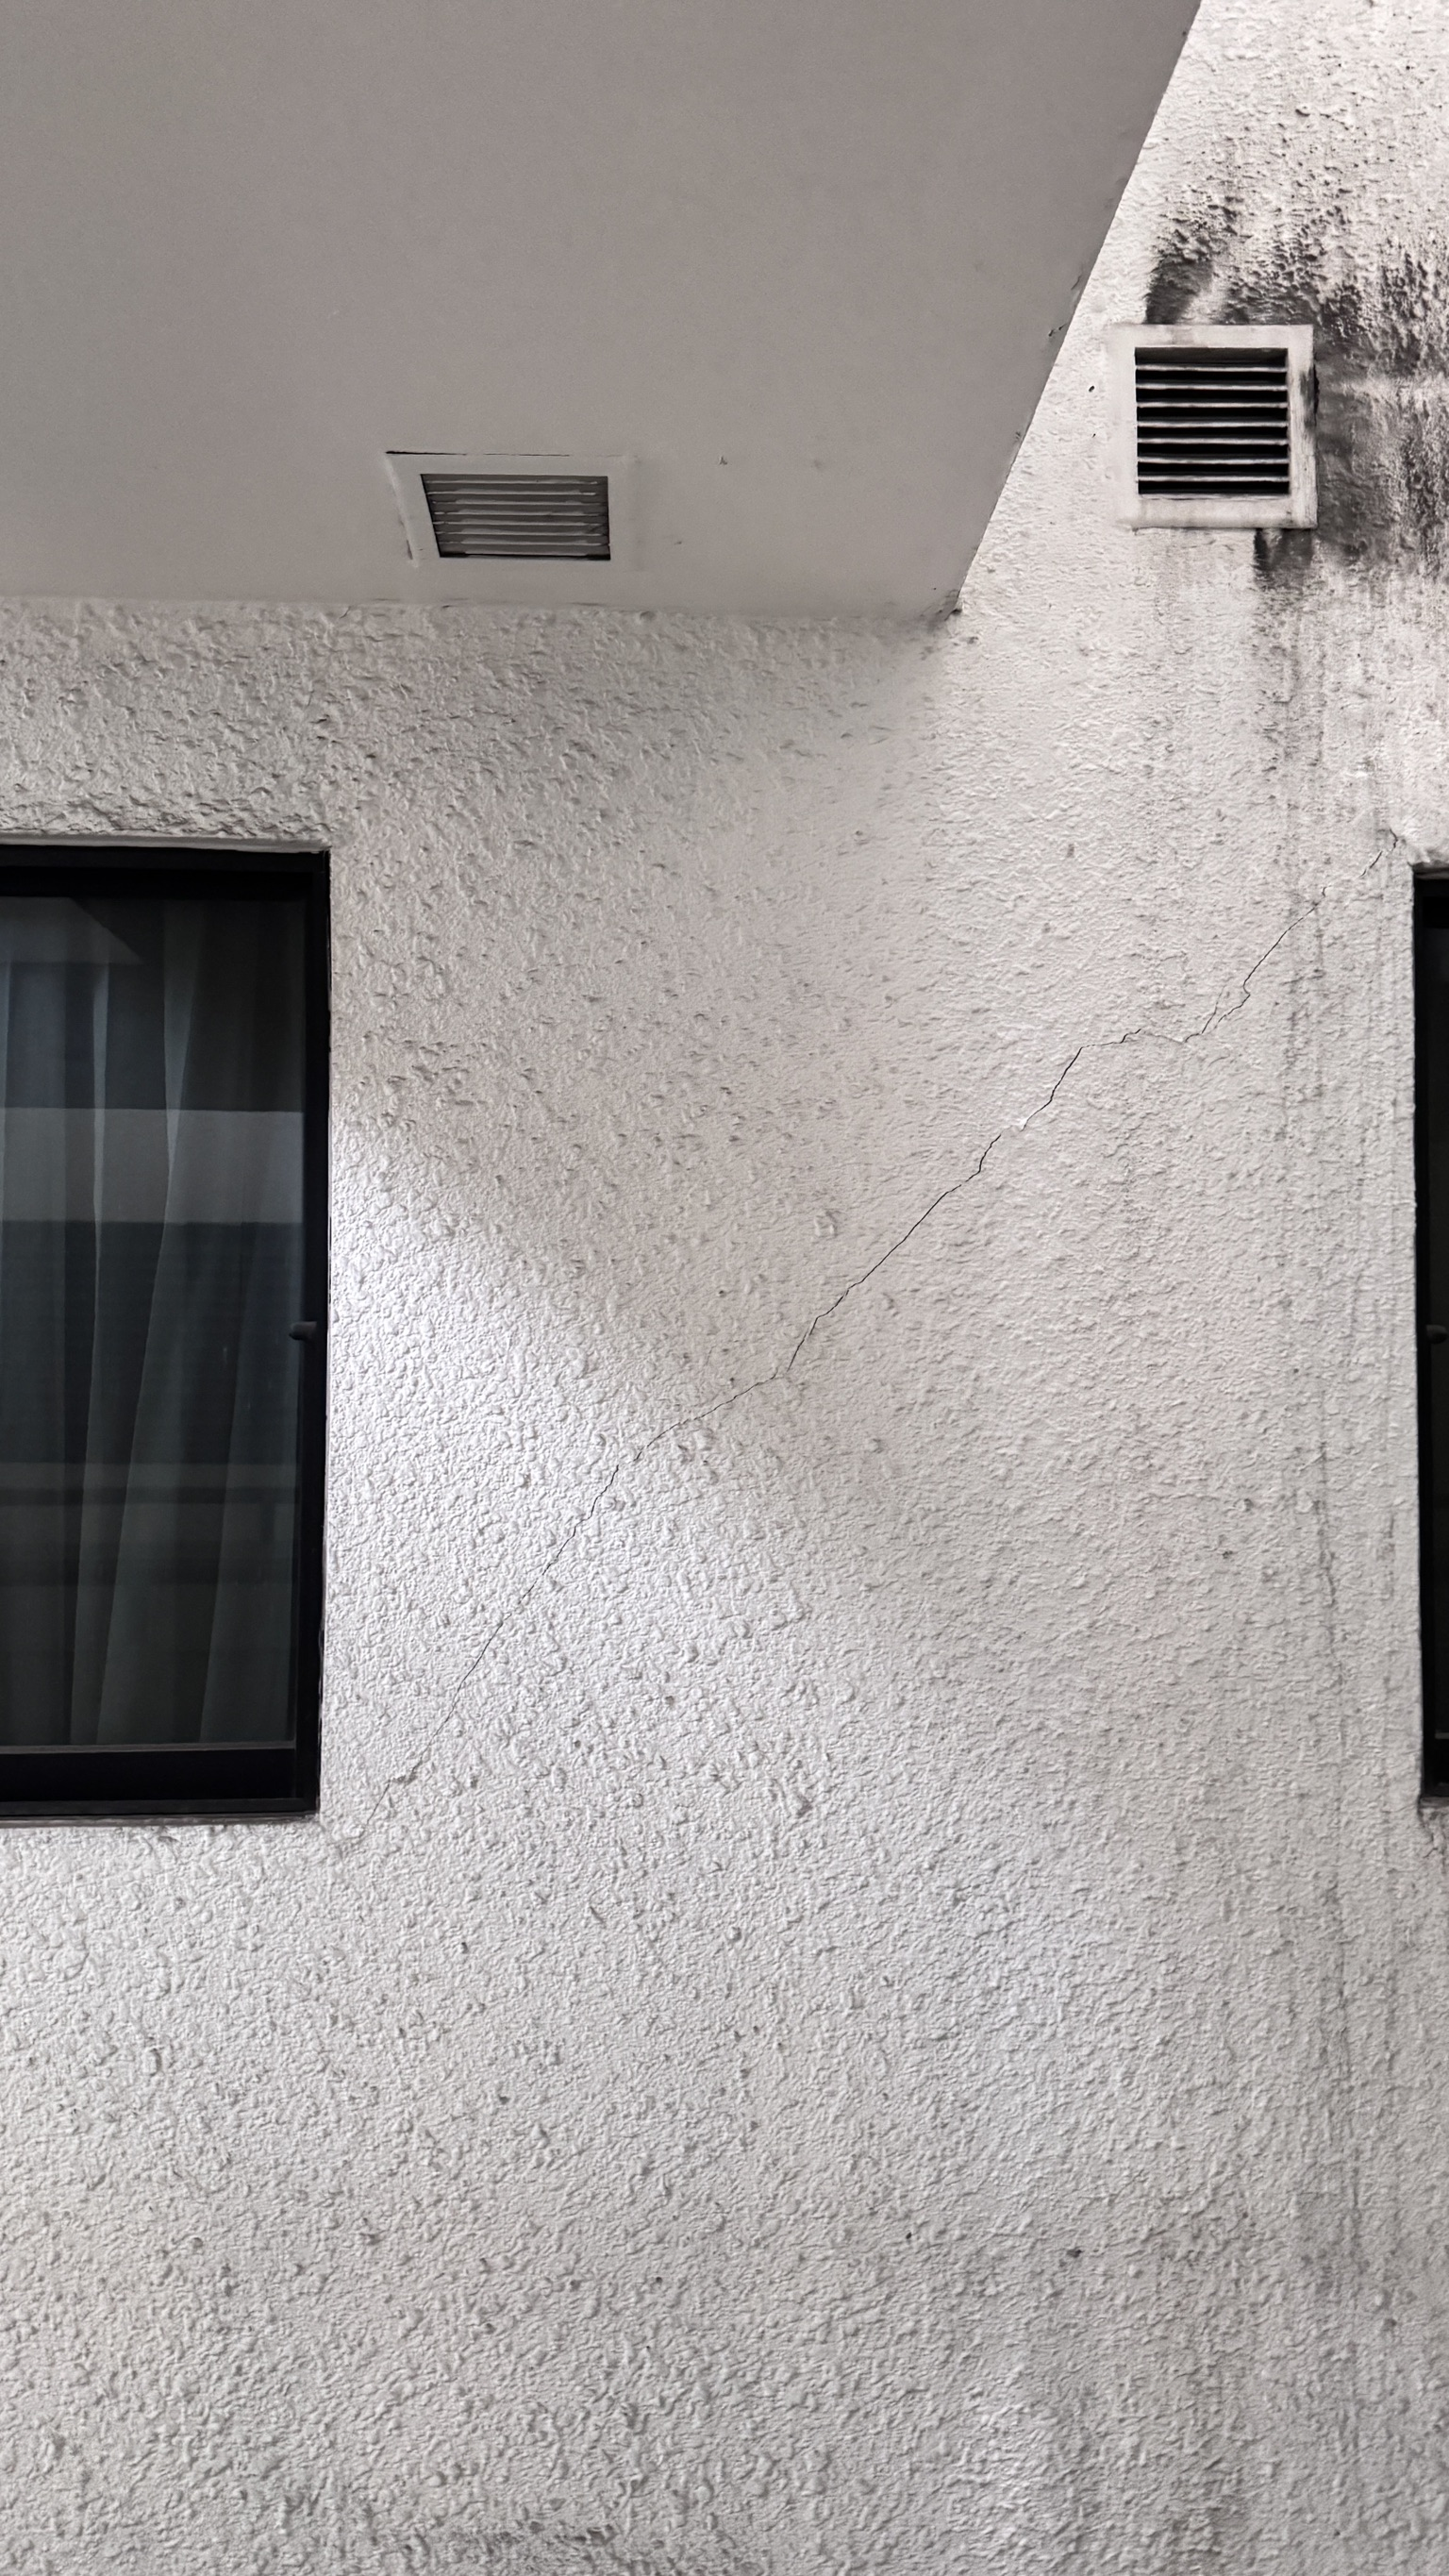Low: (373, 775, 1398, 1829)
